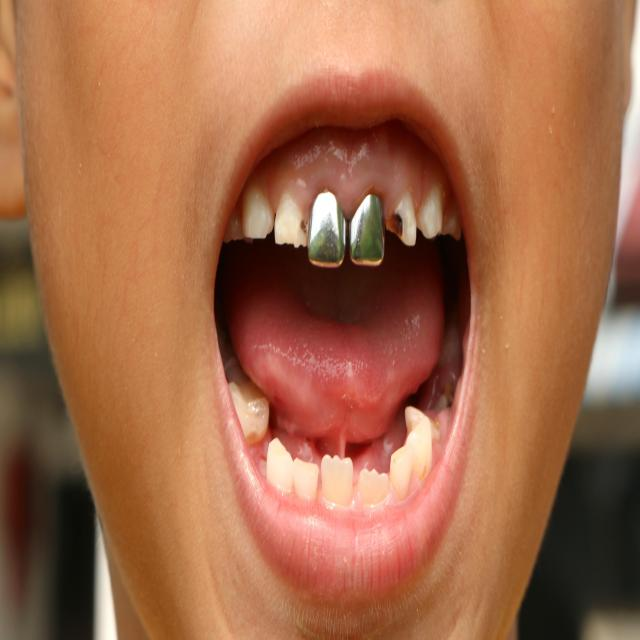Caries: (396, 214, 402, 223), (301, 221, 303, 229)
Cavity: (386, 209, 403, 239)
Tooth: (274, 190, 307, 248), (242, 186, 275, 239), (386, 190, 417, 246), (405, 416, 433, 478), (321, 455, 353, 507), (416, 184, 444, 239), (266, 437, 293, 491), (390, 442, 413, 500), (357, 468, 388, 505), (292, 457, 318, 499)
